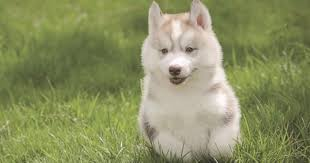Siberian Husky: (120, 2, 280, 156)
